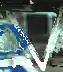Give way: (0, 1, 58, 71)
